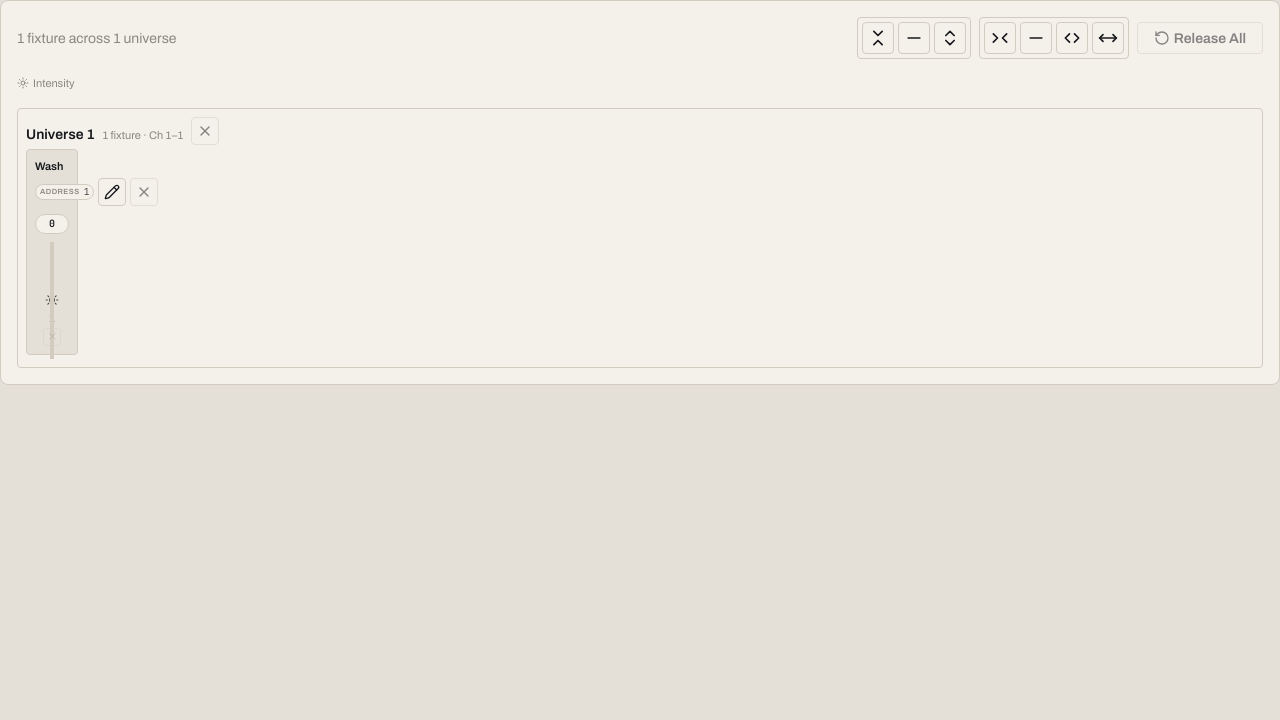
Test case: Desk › opens FixtureStyleModal from a fixture's customize button and closes it on Cancel
Click the button named "Customize Wash" at (112, 192), box [98,178,126,206]
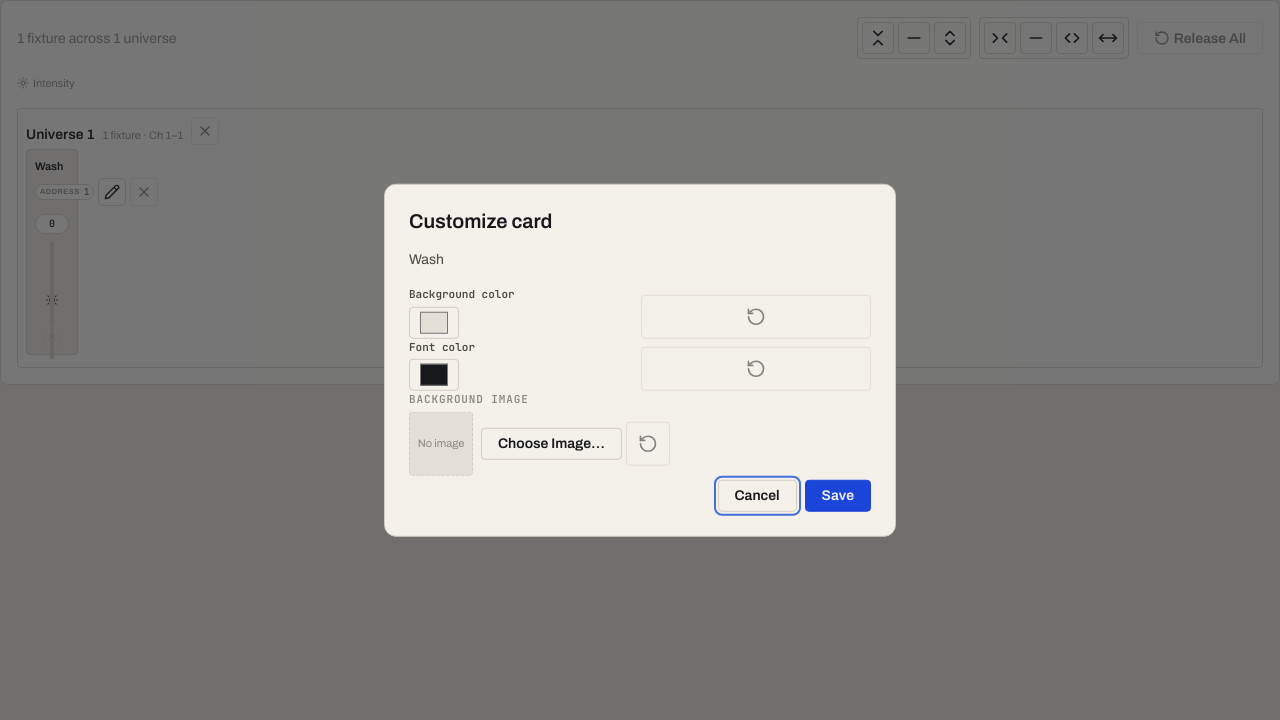
Check: the dialog "Customize card" is shown, box [384,184,896,536]
Click the button "Cancel" at (757, 495), box [718,479,797,511]
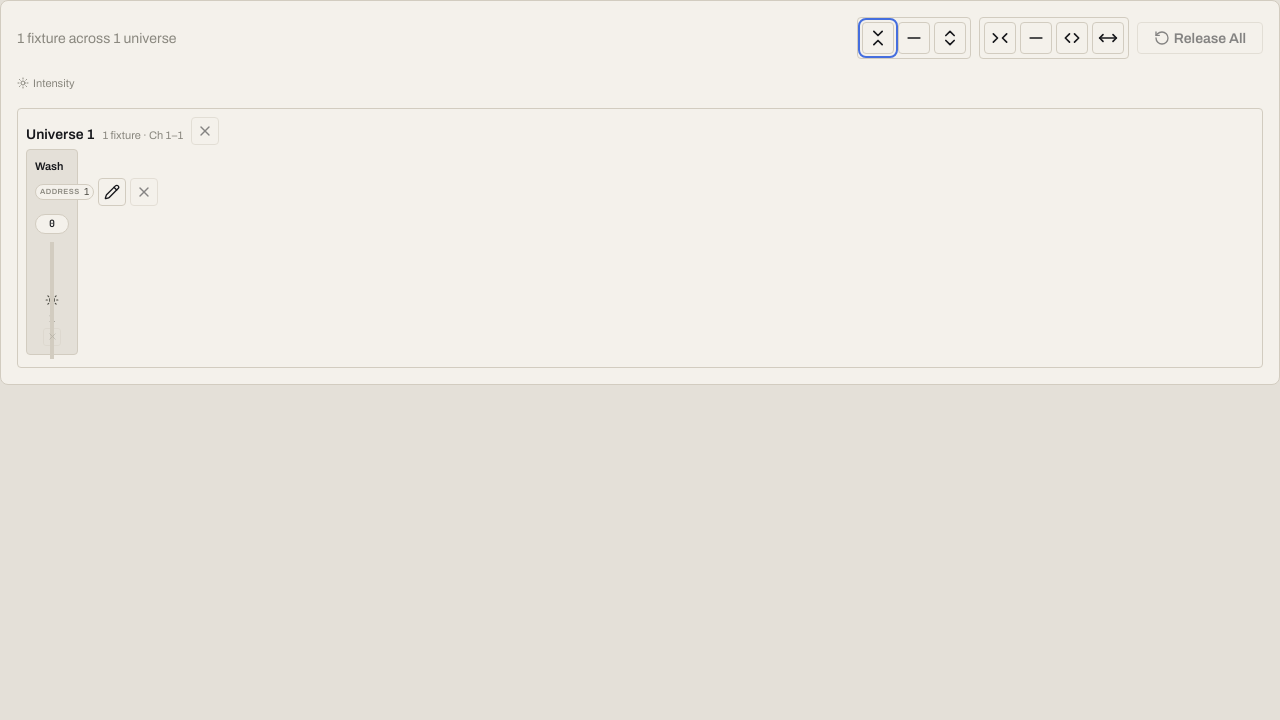
Check: the heading "Customize card" is gone
